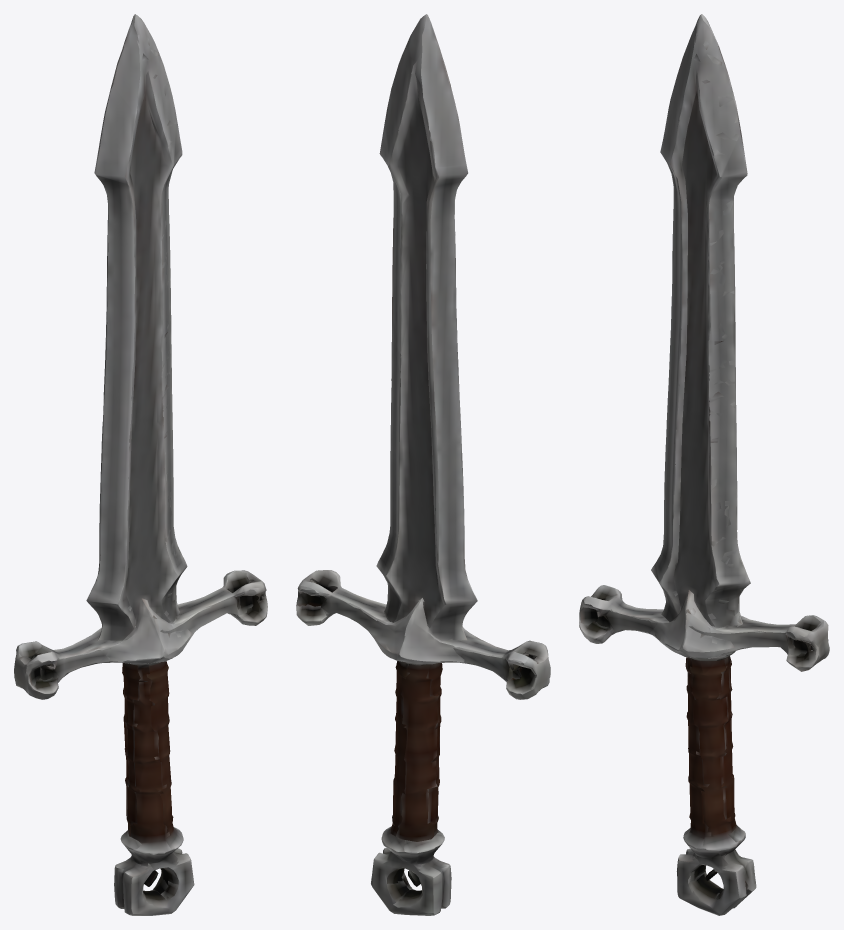
The model's file is espadao.glb.
3 views of the same model, side by side, from view 1: azimuth 30°, elevation 25°; view 2: azimuth 150°, elevation 25°; view 3: azimuth 330°, elevation 25° (orthographic).
Visible parts, largest first — view 1: world; view 2: world; view 3: world.
Part boxes in pixels (bbox=[...]): world: bbox=[14, 14, 267, 915]; world: bbox=[296, 14, 550, 915]; world: bbox=[579, 14, 829, 915].
Bounding box in the file's own units: 0.4359 × 1.55 × 0.1442.
Materials: 1 (1 with a texture image).
